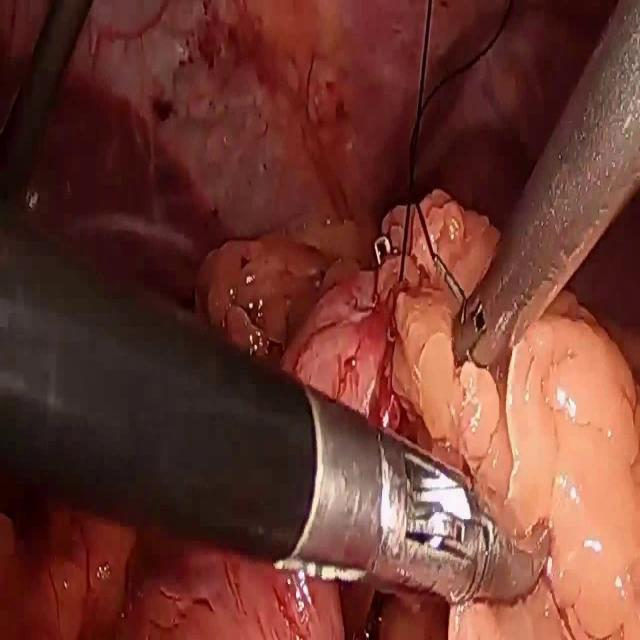surgical-tool: (0, 192, 550, 603), (453, 0, 640, 377)
